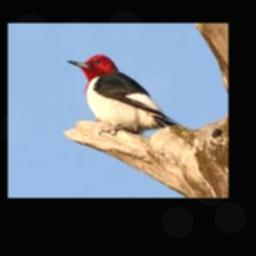Woodpecker: (67, 55, 178, 131)
